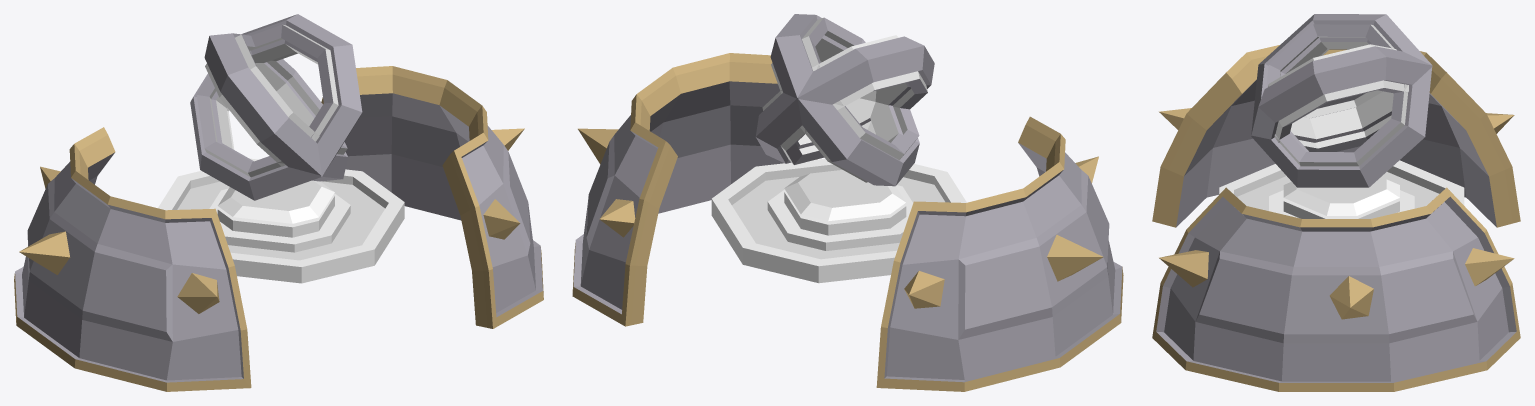
File: Torre_Fuergo2 (1).fbx
3 views of the same model, side by side, from view 1: azimuth 30°, elevation 25°; view 2: azimuth 150°, elevation 25°; view 3: azimuth 270°, elevation 25° (orthographic). The views are drawn at different scales.
Visible parts, largest first — view 1: Torre_Fuergo2; view 2: Torre_Fuergo2; view 3: Torre_Fuergo2.
Boxes of the visible parts, box(x1,y1,x2,y2) form: Torre_Fuergo2: box(14, 14, 543, 391); Torre_Fuergo2: box(572, 14, 1123, 391); Torre_Fuergo2: box(1152, 14, 1520, 391).
Size of the model in its own units: 190 by 91.03 by 122.
